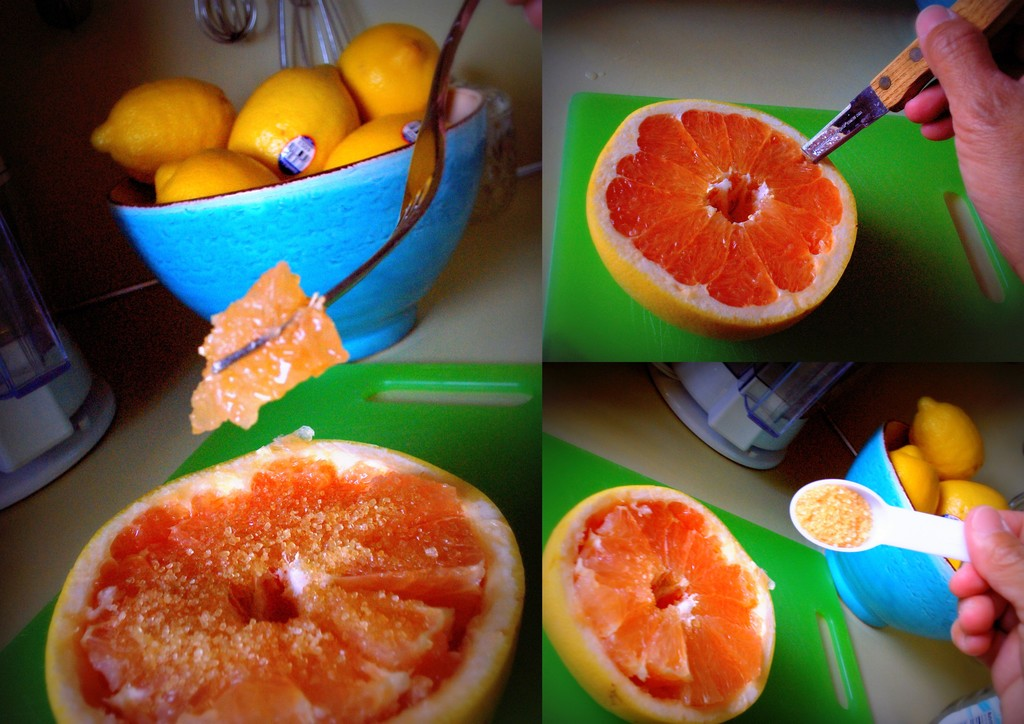Ripe: (228, 60, 358, 172), (97, 70, 221, 159), (342, 22, 447, 117), (161, 147, 285, 199), (325, 115, 428, 170)
